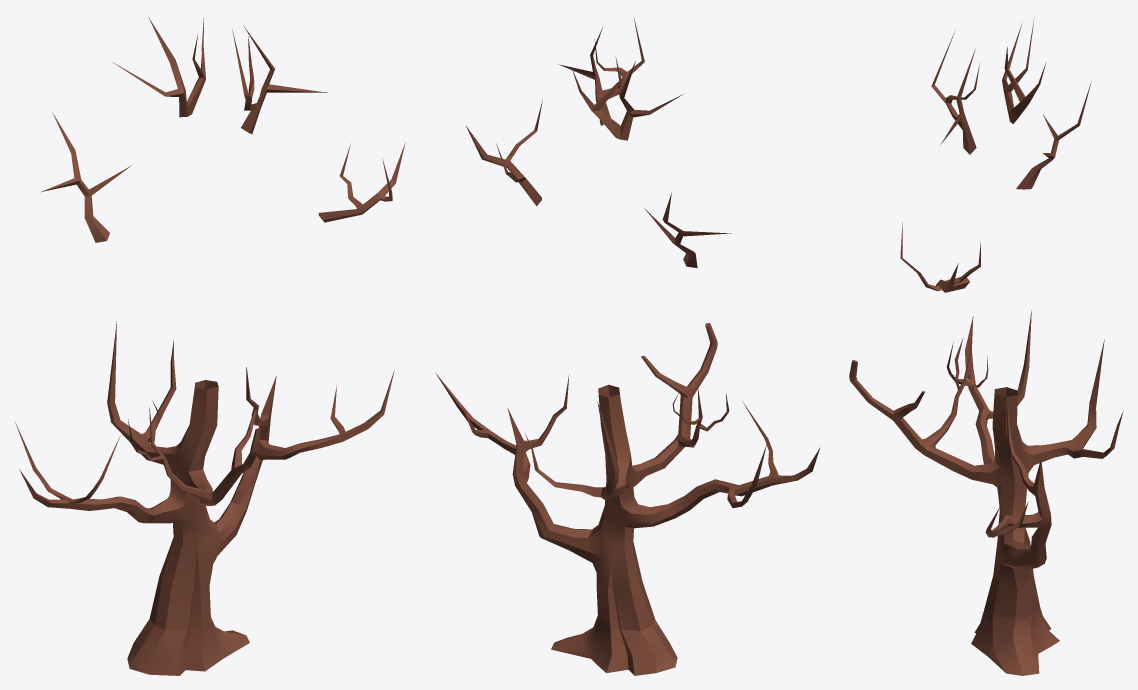
File: FINAL_Tree_1.fbx
The picture shows the model from 3 angles, left to right: view 1: azimuth 30°, elevation 25°; view 2: azimuth 150°, elevation 25°; view 3: azimuth 270°, elevation 25°; orthographic projection. The views are drawn at different scales.
Visible parts, largest first — view 1: Tree_free_03.003; view 2: Tree_free_03.003; view 3: Tree_free_03.003.
Part boxes in pixels (<box>): Tree_free_03.003: <box>15,17,405,675</box>; Tree_free_03.003: <box>435,18,820,675</box>; Tree_free_03.003: <box>849,16,1123,675</box>.
Bounding box in the file's own units: 514 × 811 × 322.
